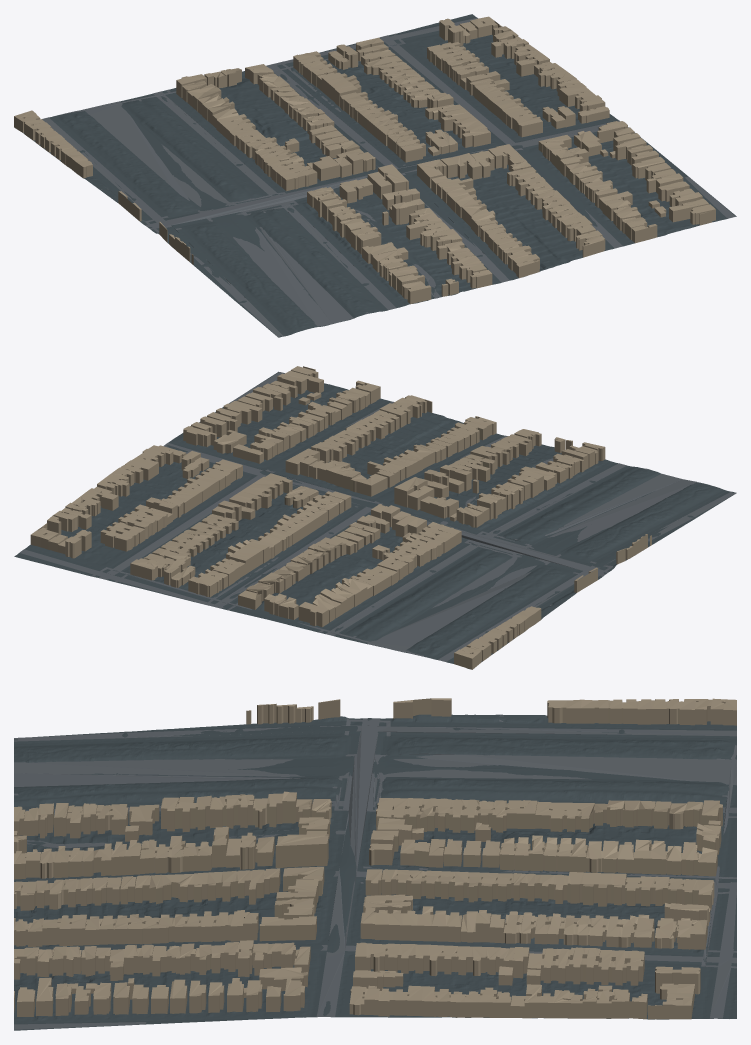
The model's file is epsg26910-1423-10888.lod0.glb.
3 renders of one model, top to bottom at view 1: azimuth 30°, elevation 25°; view 2: azimuth 150°, elevation 25°; view 3: azimuth 270°, elevation 25°, orthographic. The views are drawn at different scales.
Parts seen in each view (by area): view 1: epsg26910-1423-10888-lod0; view 2: epsg26910-1423-10888-lod0; view 3: epsg26910-1423-10888-lod0.
Boxes of the visible parts, x1=… form: epsg26910-1423-10888-lod0: x1=14, y1=14, x2=736, y2=337; epsg26910-1423-10888-lod0: x1=14, y1=366, x2=736, y2=669; epsg26910-1423-10888-lod0: x1=14, y1=698, x2=736, y2=1030.
Bounding box in the file's own units: 384 × 27.33 × 384.
